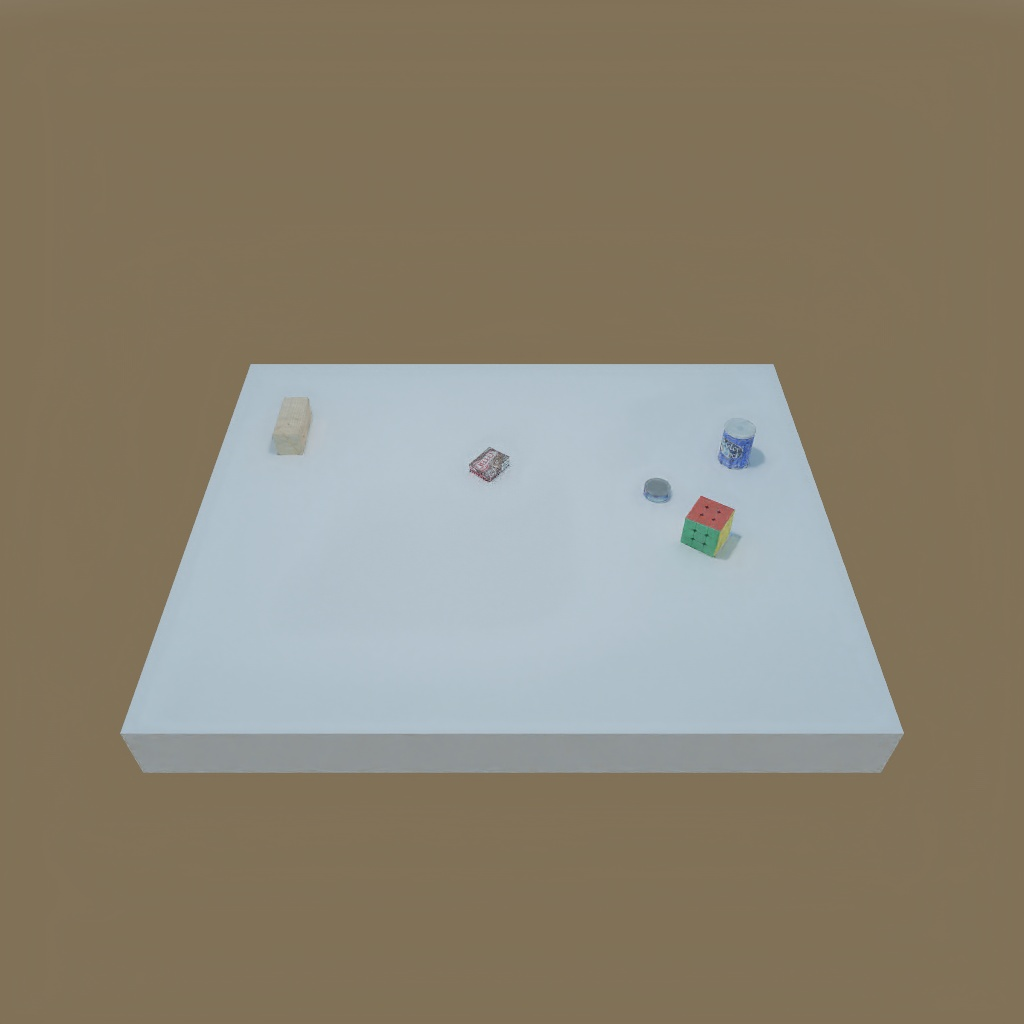master_chef_can: (712, 420, 755, 476)
pudding_box: (466, 446, 514, 482)
rubiks_cube: (682, 495, 740, 560)
wood_block: (274, 396, 311, 454)
